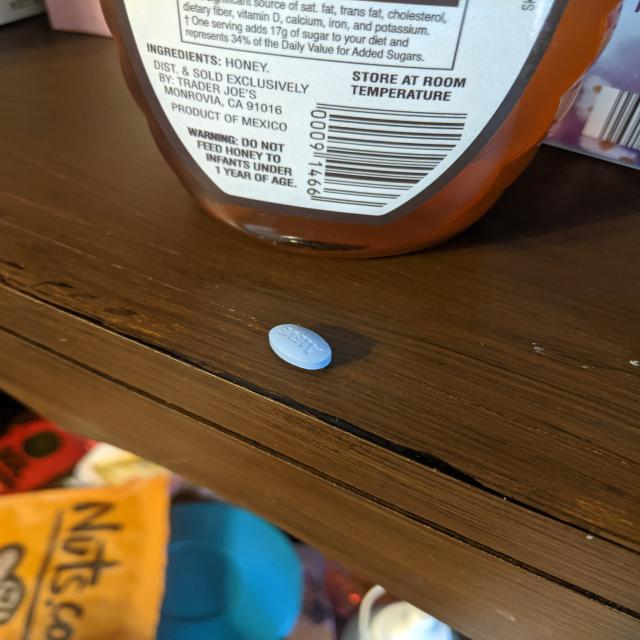non-organic waste: (268, 324, 334, 371)
